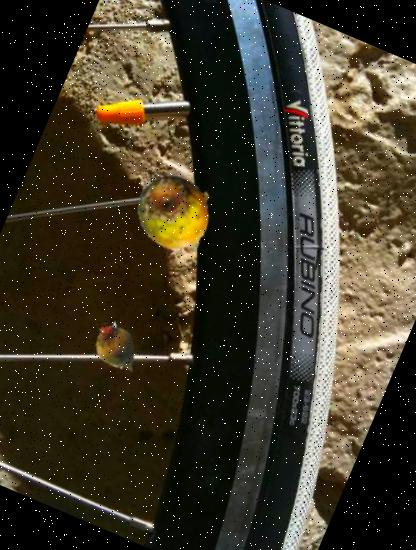Beetroot: (78, 311, 154, 387)
Cactus: (124, 160, 230, 266)
